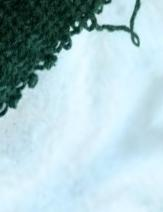snag: (81, 0, 149, 51)
